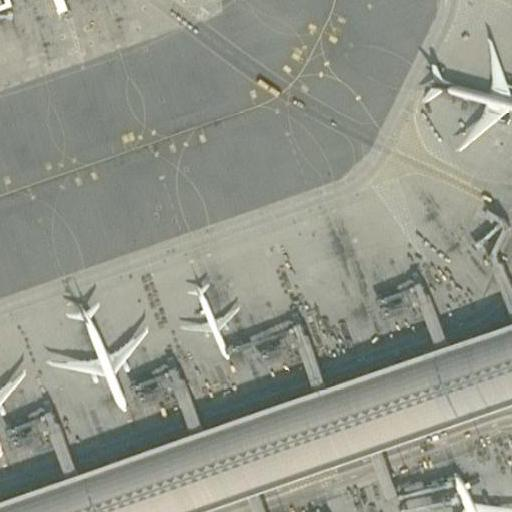Aircraft: (411, 22, 512, 156), (45, 293, 150, 417), (172, 271, 249, 363), (430, 467, 512, 512), (0, 337, 25, 456), (285, 507, 400, 512)
